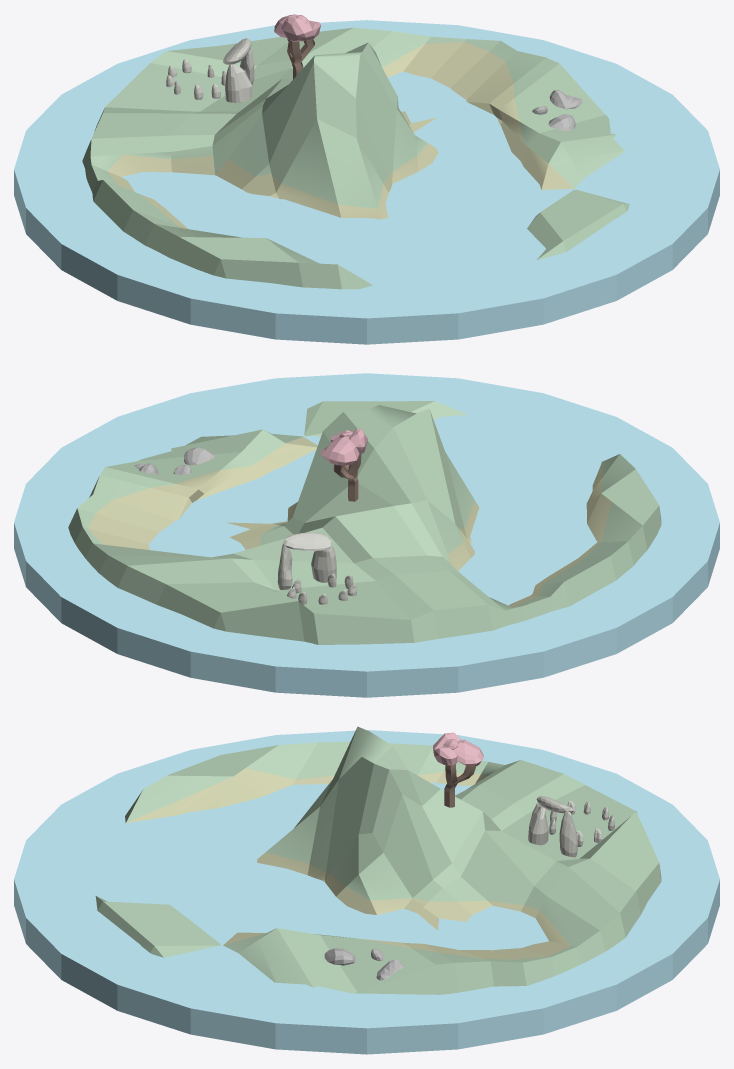
File: cherry_blossom_island.glb
3 renders of one model, top to bottom at view 1: azimuth 30°, elevation 25°; view 2: azimuth 150°, elevation 25°; view 3: azimuth 270°, elevation 25°, orthographic.
Visible parts, largest first — view 1: pDisc2, pDisc1, pCube10, pCube5; view 2: pDisc2, pDisc1, pCube7, pCube9, pCube10, pCube8; view 3: pDisc2, pDisc1, pCube8, pCube10, pCube5, pCube7.
Boxes of the visible parts, x1,y1,x2,y2 form: pDisc2: [14, 20, 719, 344]; pDisc1: [82, 27, 629, 289]; pCube10: [225, 64, 252, 102]; pCube5: [281, 16, 320, 41]; pDisc2: [14, 373, 719, 697]; pDisc1: [68, 401, 661, 644]; pCube7: [319, 436, 359, 465]; pCube9: [282, 532, 332, 550]; pCube10: [311, 545, 336, 582]; pCube8: [277, 543, 292, 589]; pDisc2: [14, 730, 719, 1054]; pDisc1: [95, 726, 661, 994]; pCube8: [559, 811, 577, 857]; pCube10: [528, 802, 548, 845]; pCube5: [433, 732, 460, 765]; pCube7: [453, 739, 483, 765].
Bounding box in the file's own units: 0.2809 × 0.0751 × 0.2809.
